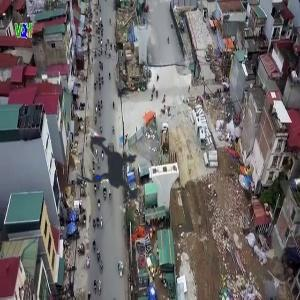drone: (38, 94, 192, 248)
